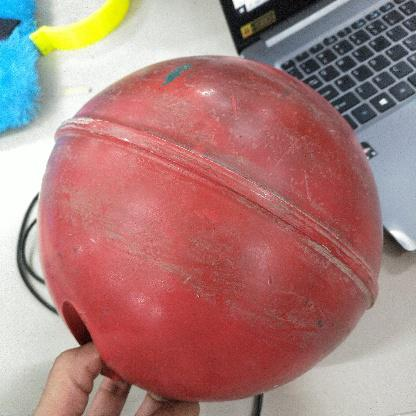red_buoy: (39, 55, 382, 401)
